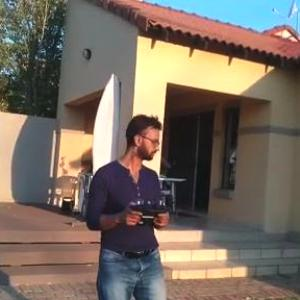follow: (88, 114, 173, 299)
